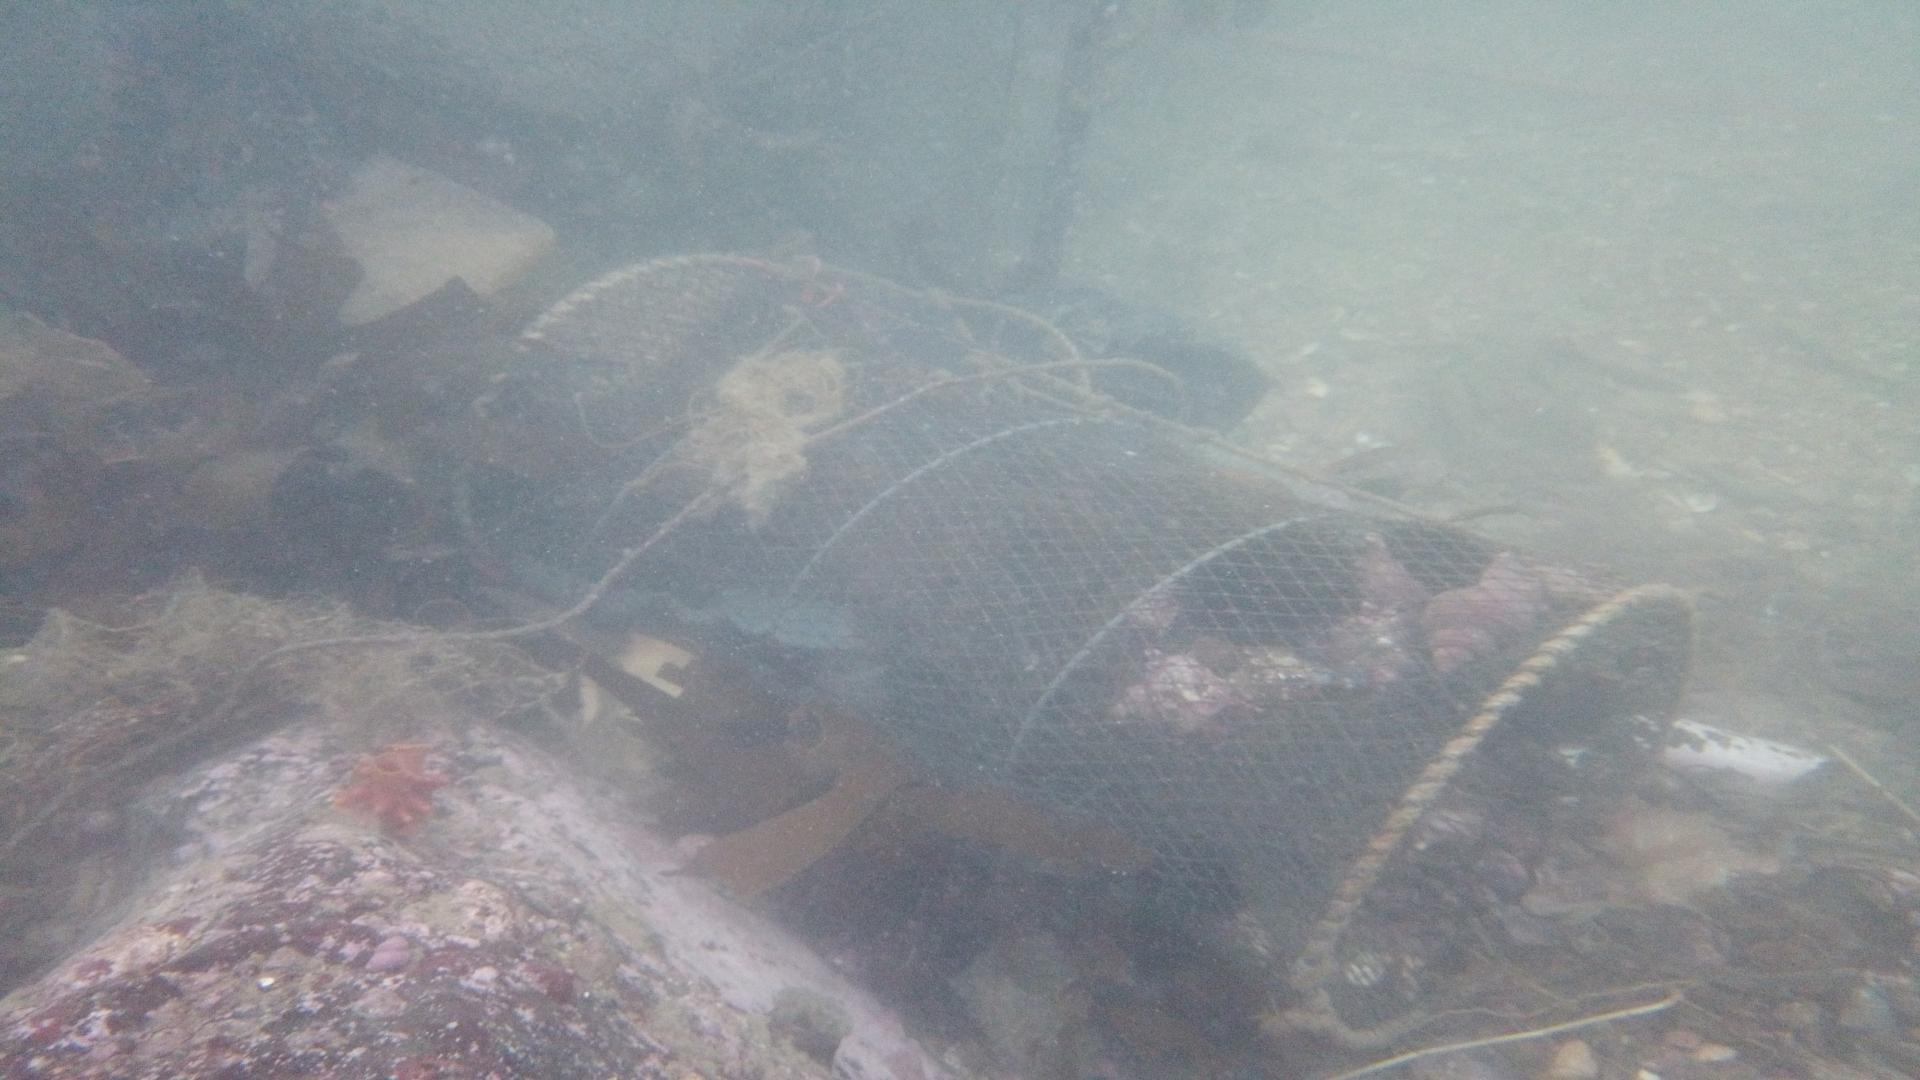spring fish trap: (451, 245, 1704, 1052)
